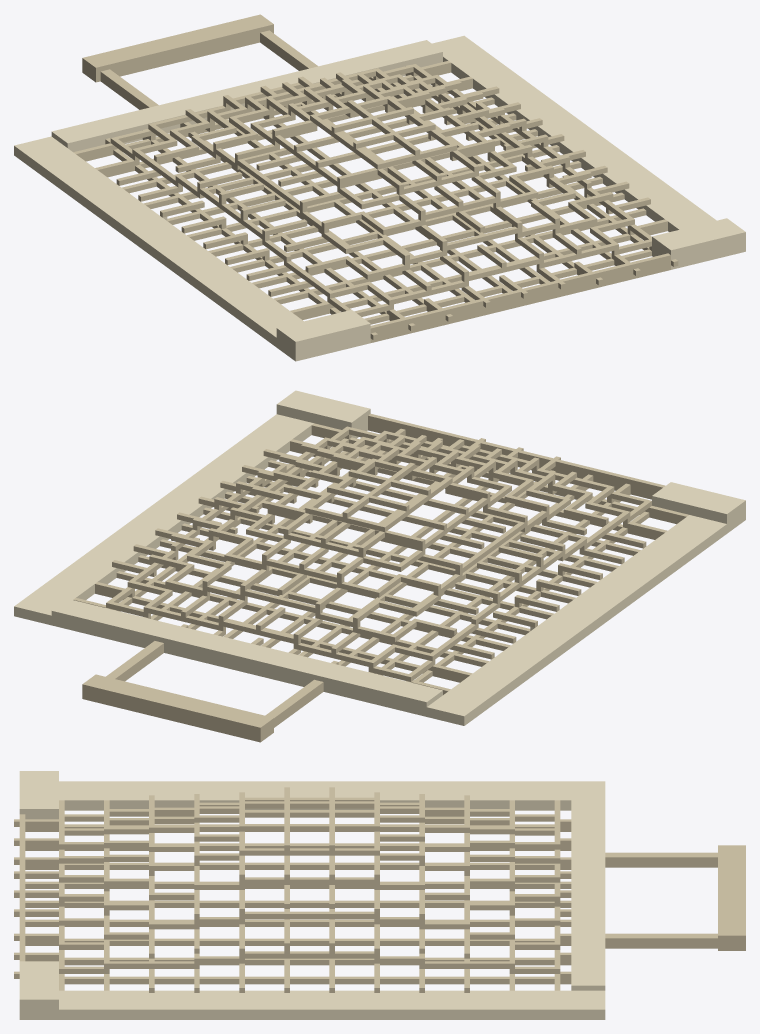
Rendered from net_backpack.glb.
The picture shows the model from 3 angles, top to bottom: view 1: azimuth 30°, elevation 25°; view 2: azimuth 150°, elevation 25°; view 3: azimuth 270°, elevation 25°; orthographic projection. The views are drawn at different scales.
Parts seen in each view (by area): view 1: net_backpack:compound; view 2: net_backpack:compound; view 3: net_backpack:compound.
Boxes of the visible parts, <box> form: net_backpack:compound: <box>14,14,745,361</box>; net_backpack:compound: <box>14,390,745,742</box>; net_backpack:compound: <box>14,771,745,1019</box>.
Size of the model in its own units: 0.384 by 0.064 by 0.52.
